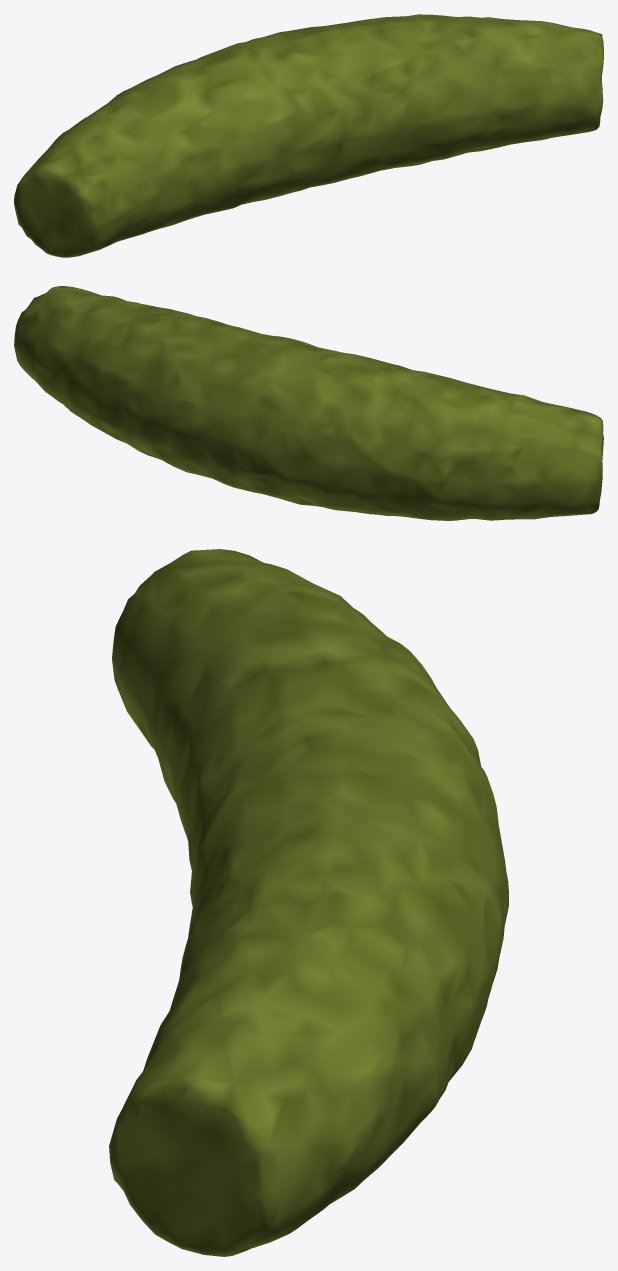
File: gurke.glb
The picture shows the model from 3 angles, top to bottom: view 1: azimuth 30°, elevation 25°; view 2: azimuth 150°, elevation 25°; view 3: azimuth 270°, elevation 25°; orthographic projection. The views are drawn at different scales.
Parts seen in each view (by area): view 1: p0; view 2: p0; view 3: p0.
Boxes of the visible parts, box(x1,y1,x2,y2) form: p0: box(14, 14, 603, 257); p0: box(14, 286, 603, 520); p0: box(109, 549, 508, 1256).
Bounding box in the file's own units: 0.064 × 0.0151 × 0.019.
